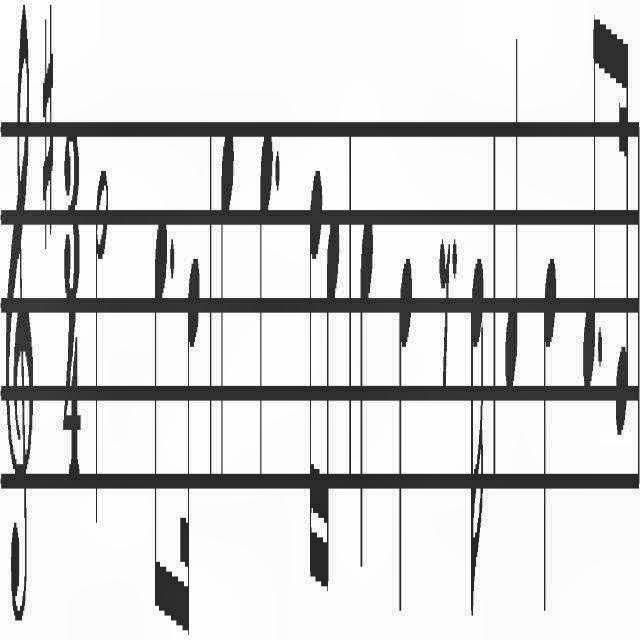Bass-clef: (0, 0, 34, 640)
Diez: (40, 0, 56, 254)
Eighth-note: (151, 204, 169, 628), (581, 0, 599, 420)
Eighth-rest: (438, 214, 450, 406)
Half-note: (86, 130, 114, 522)
Quarter-note: (540, 232, 560, 640), (396, 240, 416, 640), (217, 110, 236, 526), (355, 178, 373, 602), (504, 44, 524, 420), (258, 103, 274, 524)
Sixteenth-note: (612, 11, 634, 450), (468, 240, 488, 640), (305, 153, 323, 593), (182, 247, 202, 638), (323, 214, 342, 610)
